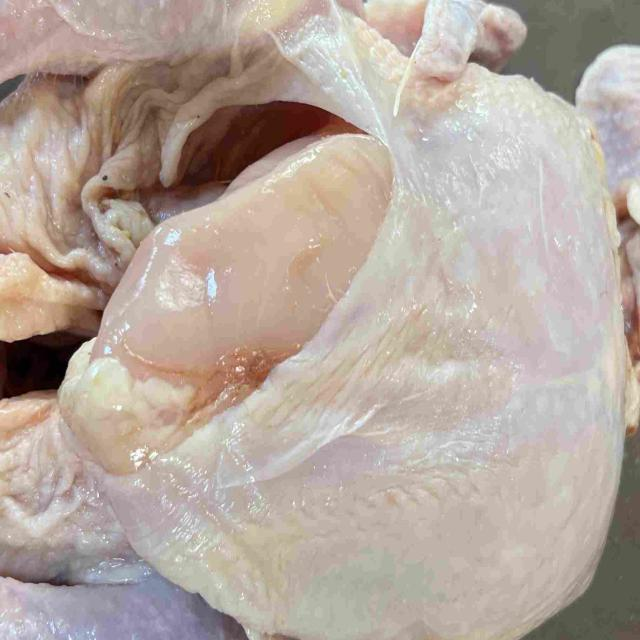breast: (61, 78, 626, 640)
neck: (578, 52, 640, 433)
